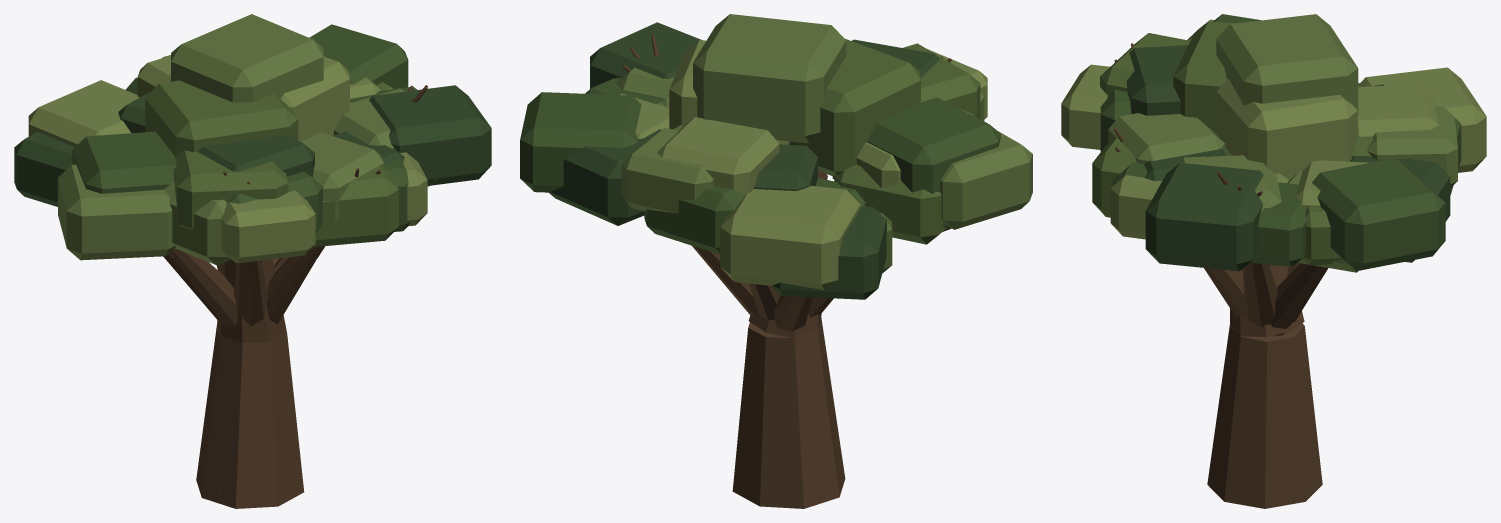
File: apple_mature.glb
3 views of the same model, side by side, from view 1: azimuth 30°, elevation 25°; view 2: azimuth 150°, elevation 25°; view 3: azimuth 270°, elevation 25° (orthographic). The views are drawn at different scales.
Parts seen in each view (by area): view 1: apple_mature; view 2: apple_mature; view 3: apple_mature.
Boxes of the visible parts, bbox=[...] form: apple_mature: bbox=[14, 14, 491, 508]; apple_mature: bbox=[520, 14, 1032, 508]; apple_mature: bbox=[1061, 14, 1486, 508].
Bounding box in the file's own units: 11.9 × 12 × 10.33.
